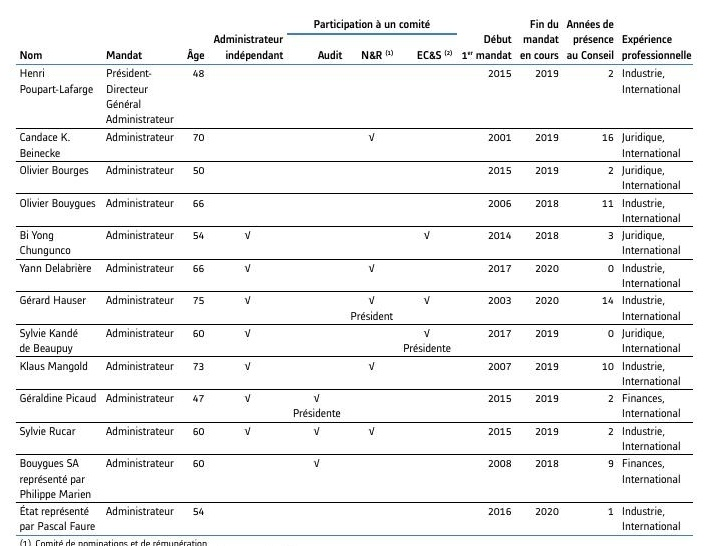table: (0, 0, 711, 546)
